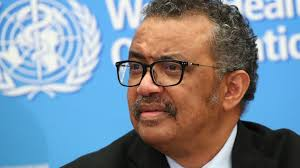middle_eastern_male: (126, 3, 246, 140)
